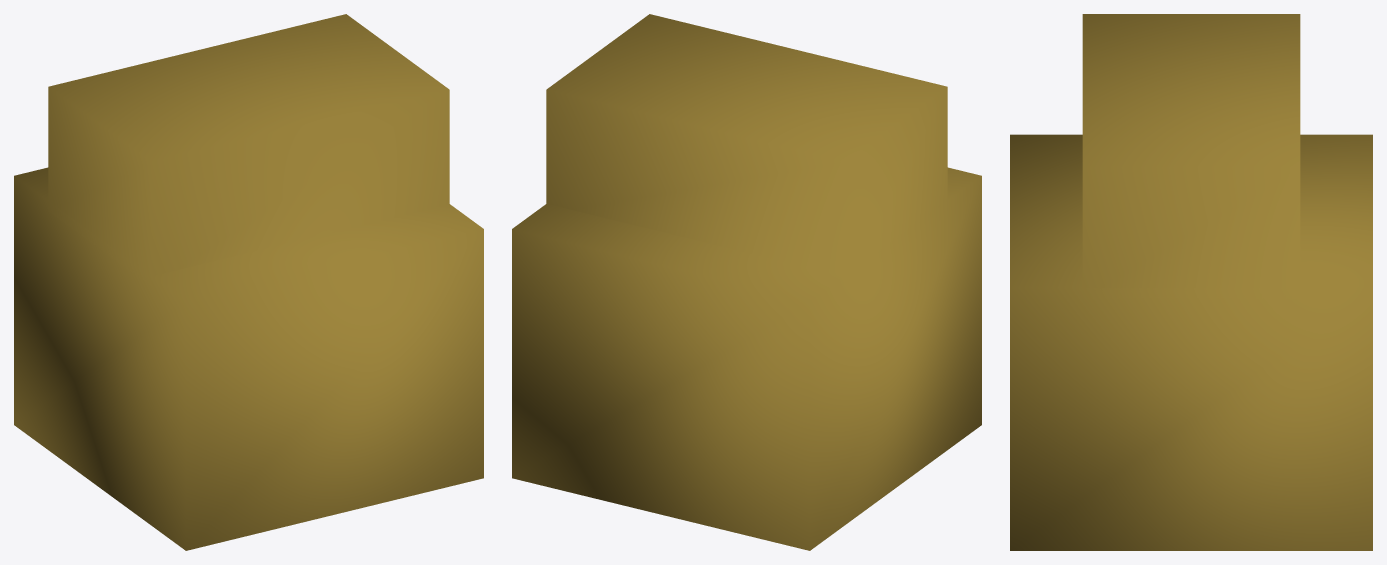
File: apiary.obj
3 views of the same model, side by side, from view 1: azimuth 30°, elevation 25°; view 2: azimuth 150°, elevation 25°; view 3: azimuth 270°, elevation 25° (orthographic). The views are drawn at different scales.
Visible parts, largest first — view 1: building; view 2: building; view 3: building.
Boxes of the visible parts, x1=… form: building: x1=14, y1=14, x2=483, y2=550; building: x1=512, y1=14, x2=981, y2=550; building: x1=1010, y1=14, x2=1372, y2=550.
Bounding box in the file's own units: 1.5 × 1.75 × 1.5.
